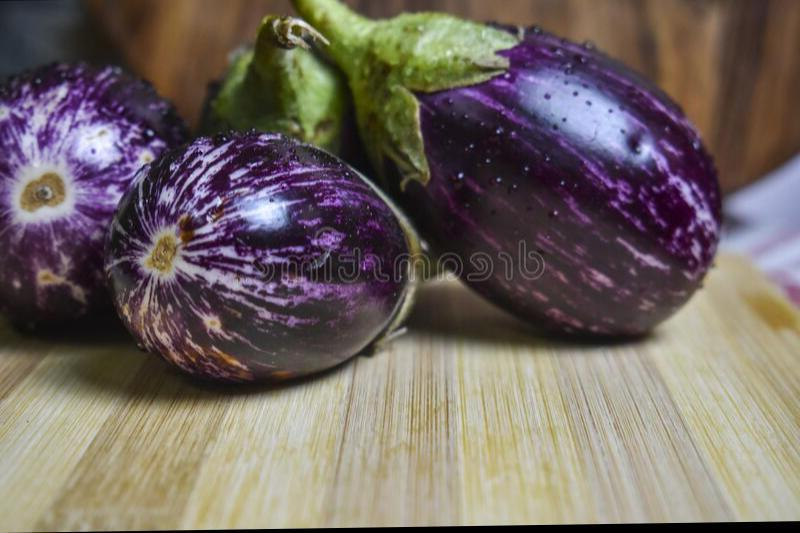eggplant: (0, 21, 725, 390), (407, 9, 723, 350), (0, 58, 263, 339), (108, 124, 369, 399)
